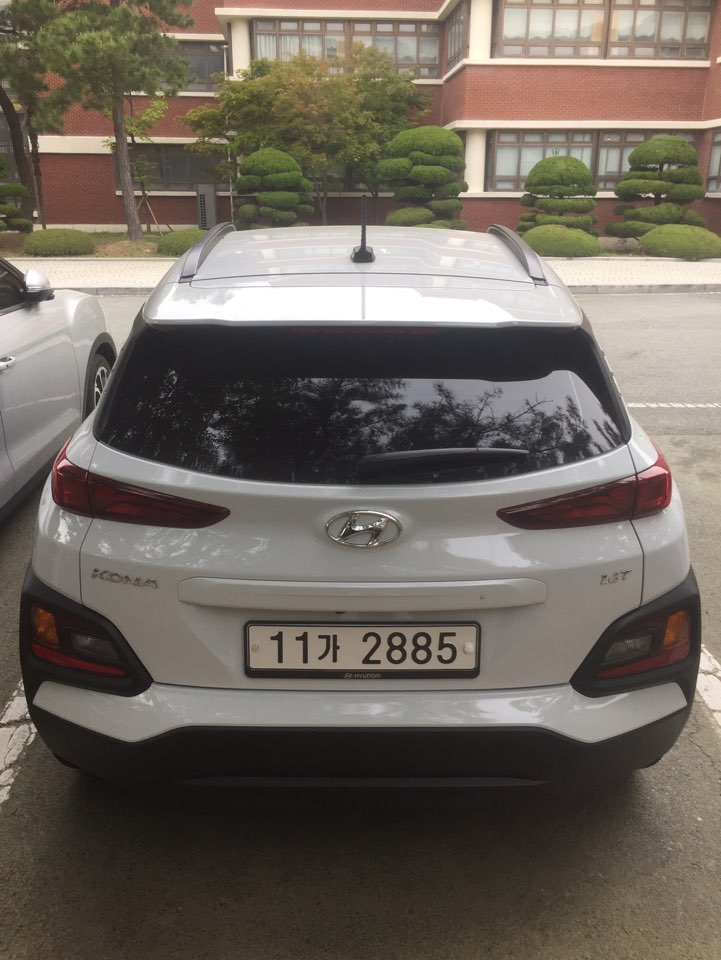car: (5, 143, 707, 873), (0, 255, 116, 522)
